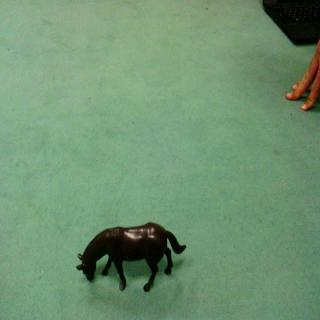horse: (78, 213, 188, 296)
